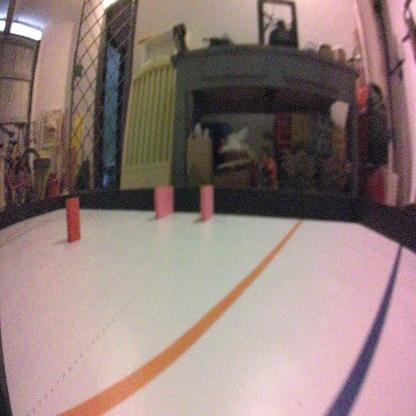magenta: (153, 186, 175, 220), (199, 182, 214, 223)
red: (63, 194, 82, 238)
